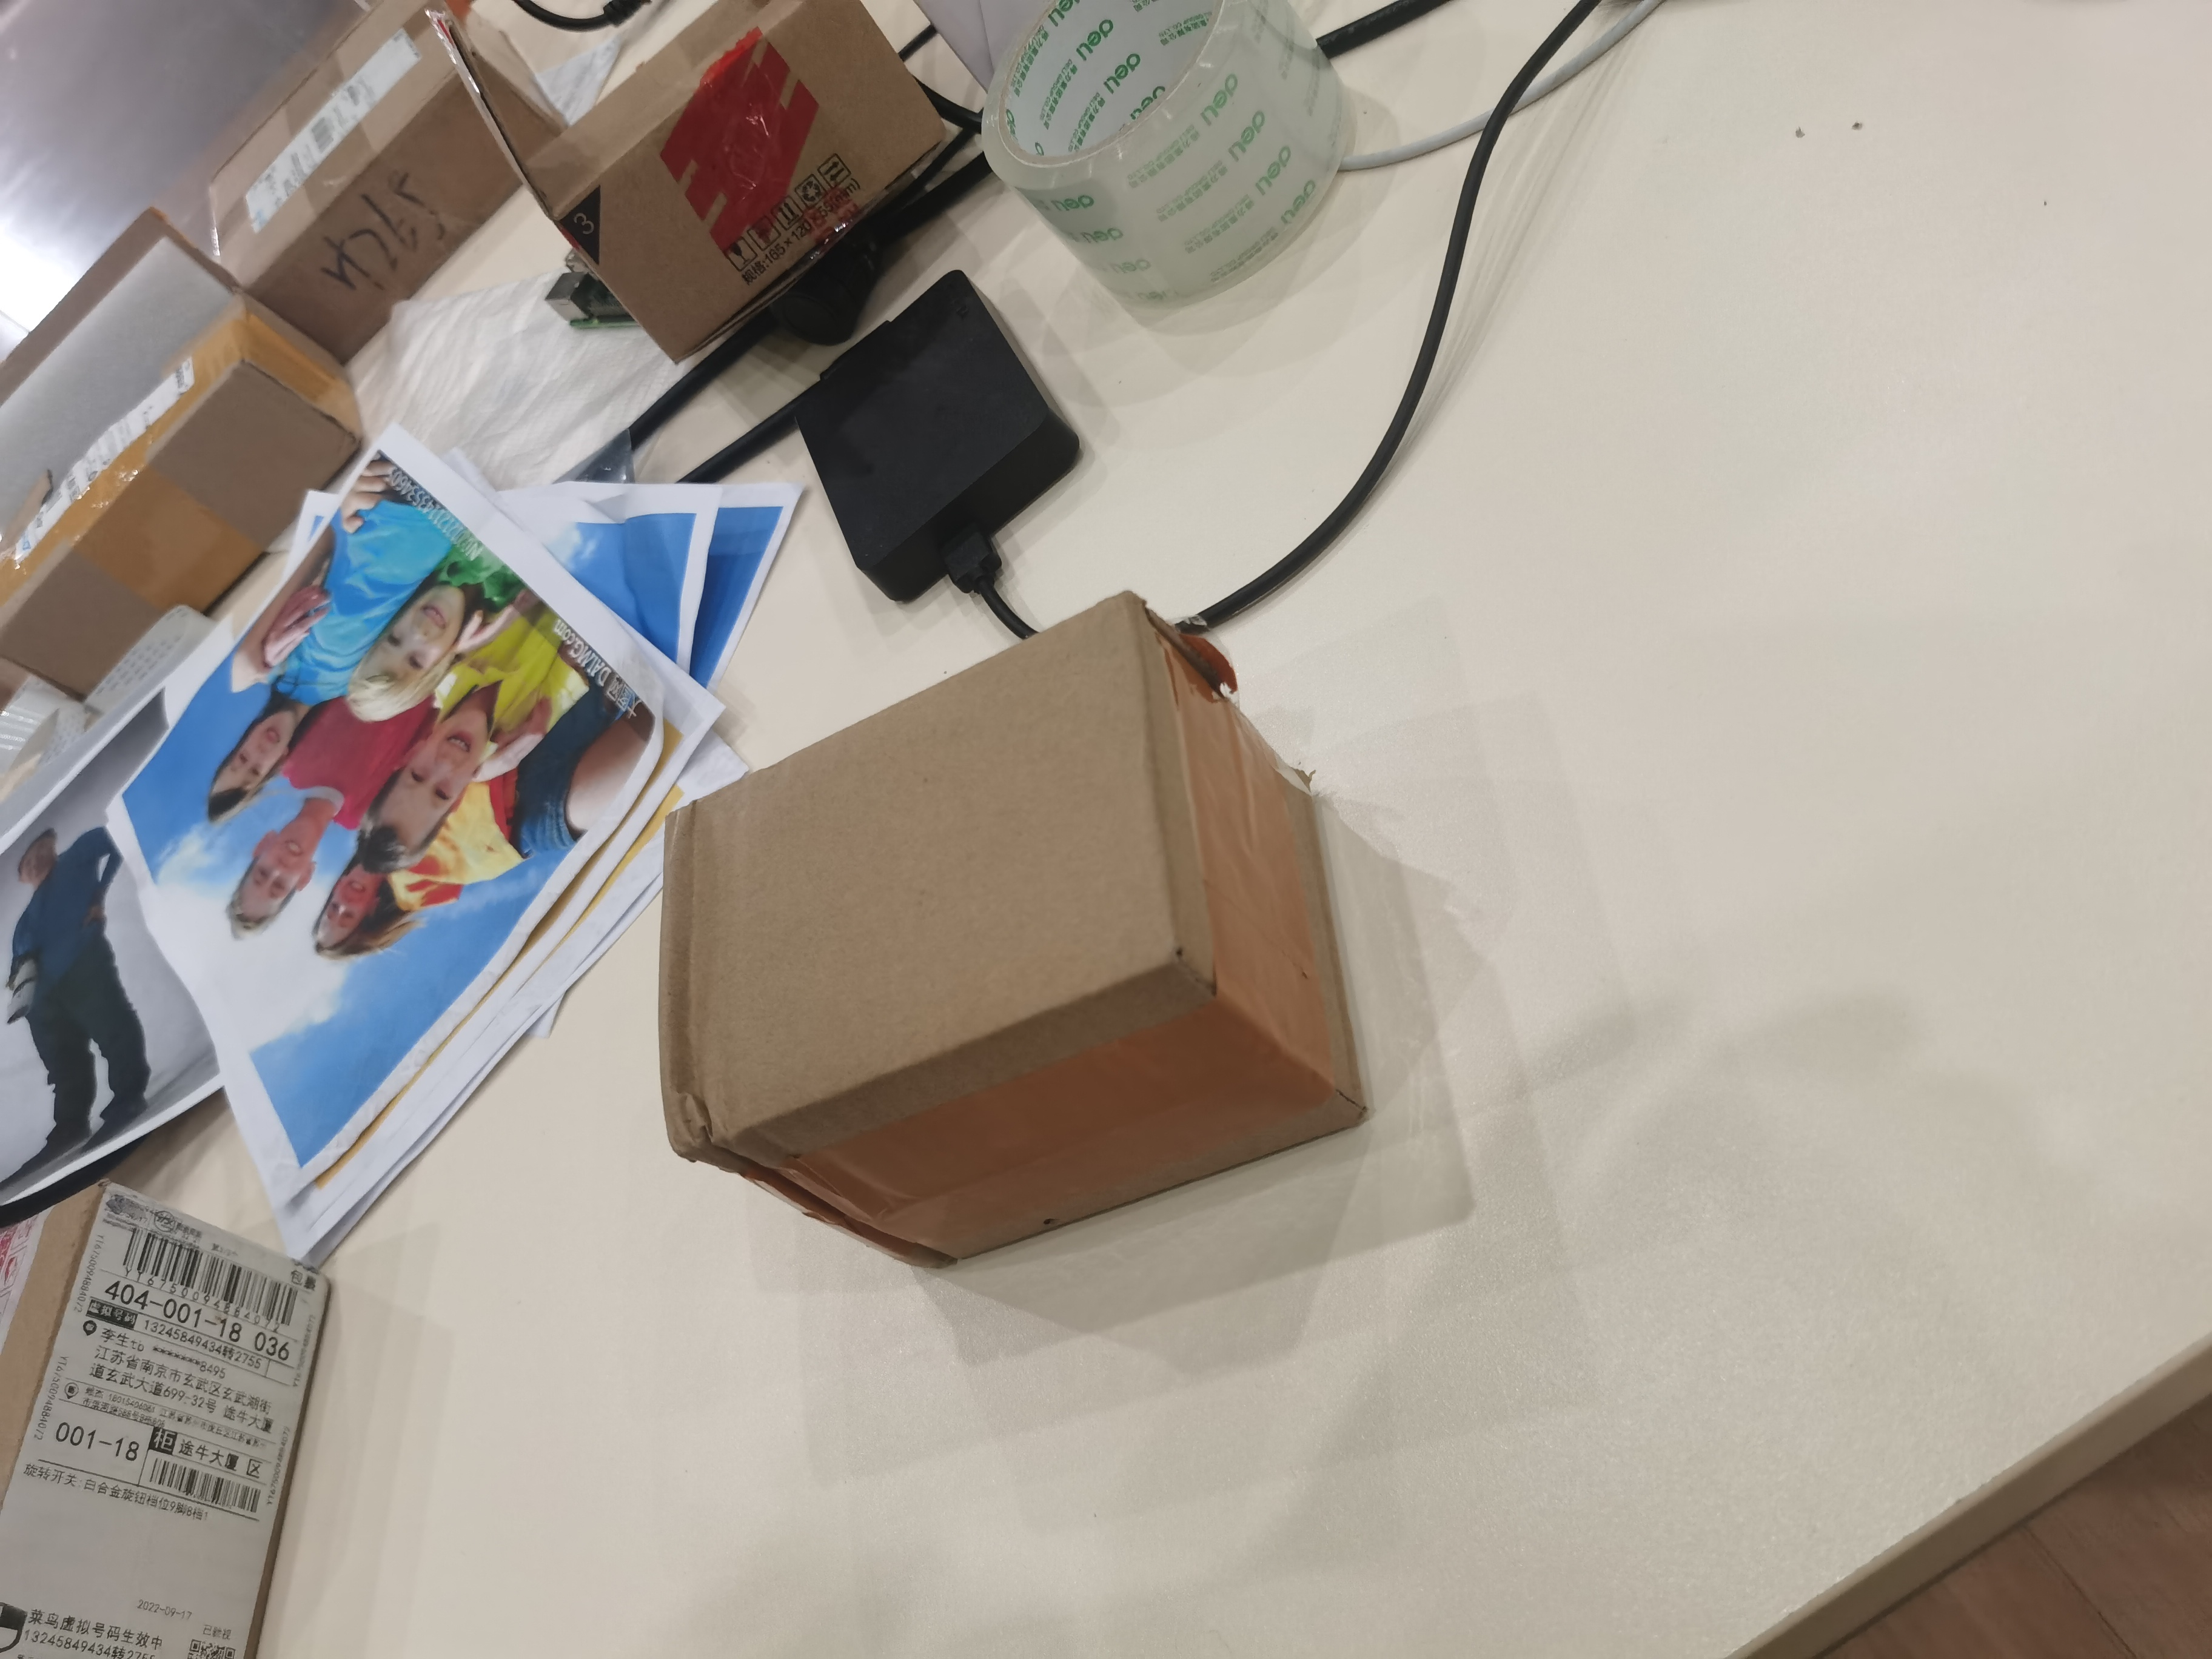box: (625, 610, 1381, 1302)
